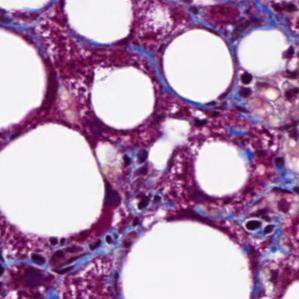inflammation: (110, 137, 155, 184), (243, 205, 288, 248)
